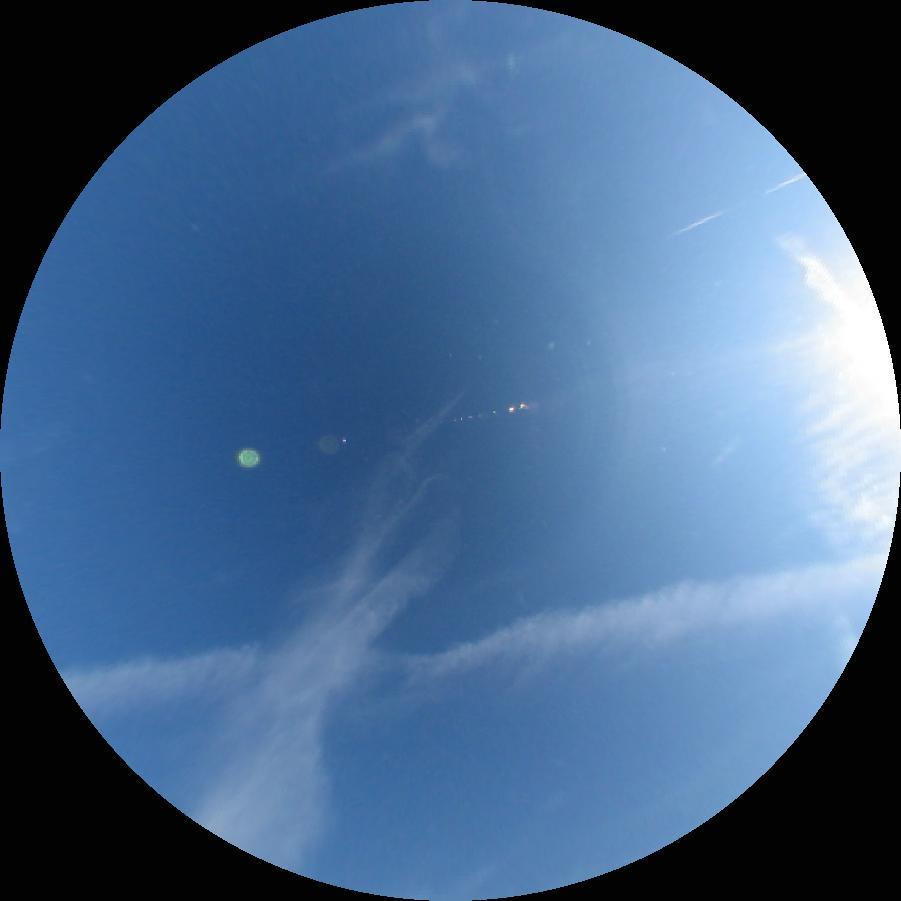contrail veryold: (59, 552, 893, 727), (787, 264, 901, 563), (767, 228, 849, 311)
contrail young: (659, 171, 807, 243)
